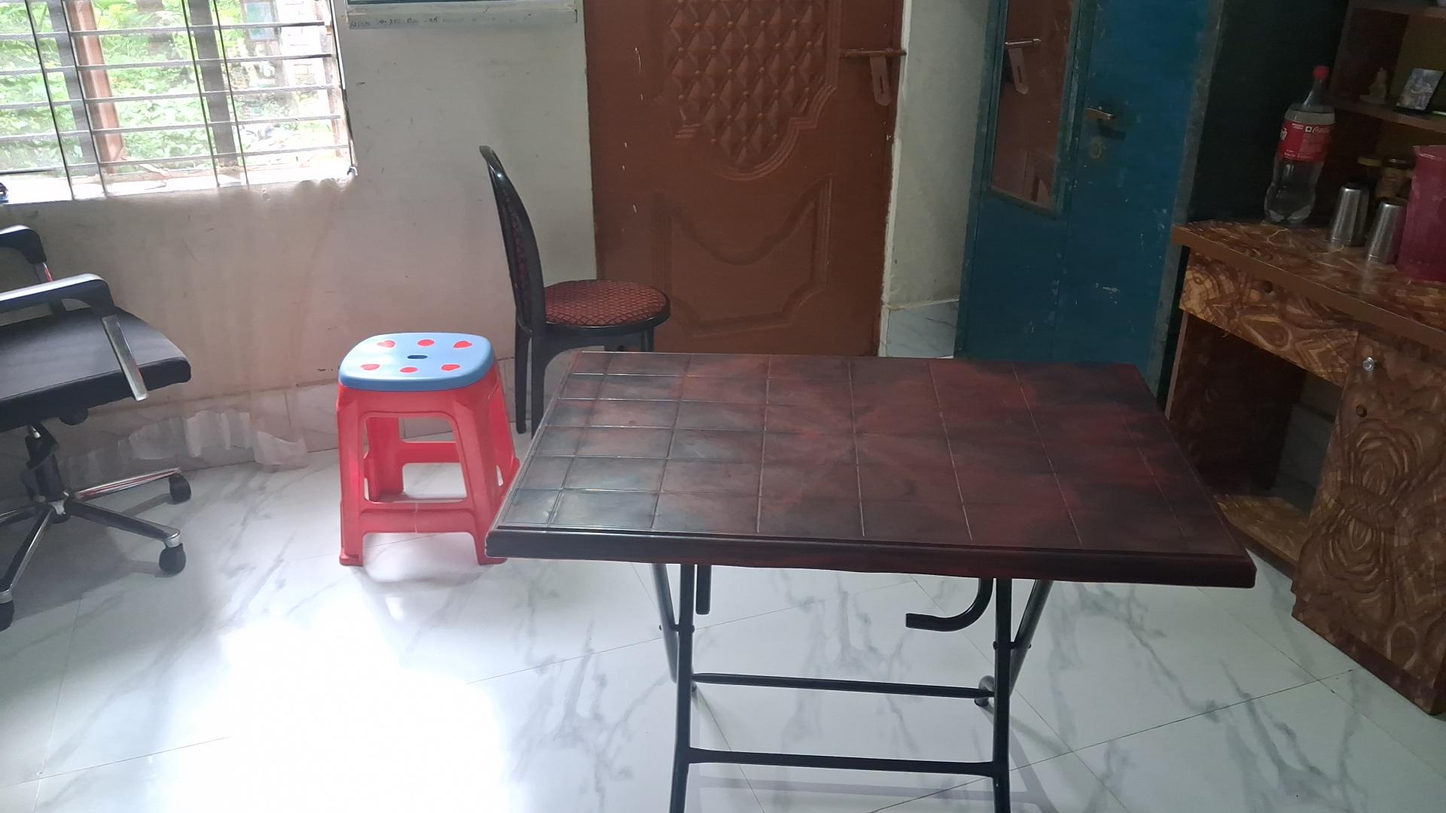Bottle: (1263, 64, 1336, 225)
Chair: (0, 234, 194, 628), (479, 144, 672, 435)
Door: (573, 0, 913, 369)
Glass: (1364, 200, 1408, 267), (1329, 184, 1367, 248)
Stool: (335, 330, 523, 583)
Table: (490, 362, 1261, 805)
Window: (0, 0, 354, 194)
